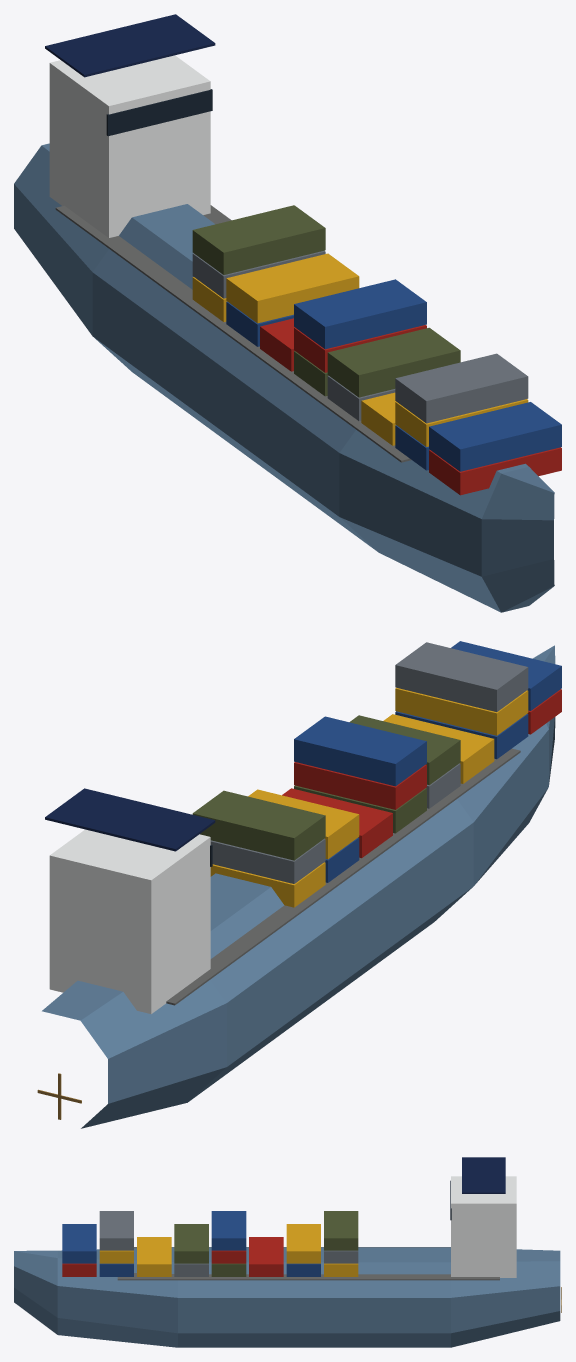
Rendered from veh_naval_merchant_a10.glb.
The picture shows the model from 3 angles, top to bottom: view 1: azimuth 30°, elevation 25°; view 2: azimuth 150°, elevation 25°; view 3: azimuth 270°, elevation 25°; orthographic projection. The views are drawn at different scales.
Visible parts, largest first — view 1: body; view 2: body; view 3: body.
Part boxes in pixels (box(x1,y1,x2,y2)): body: box(14, 14, 561, 612); body: box(42, 641, 561, 1128); body: box(14, 1157, 560, 1347).
Size of what is drawn, in the model's own units: 5.97 by 12.69 by 38.13.
